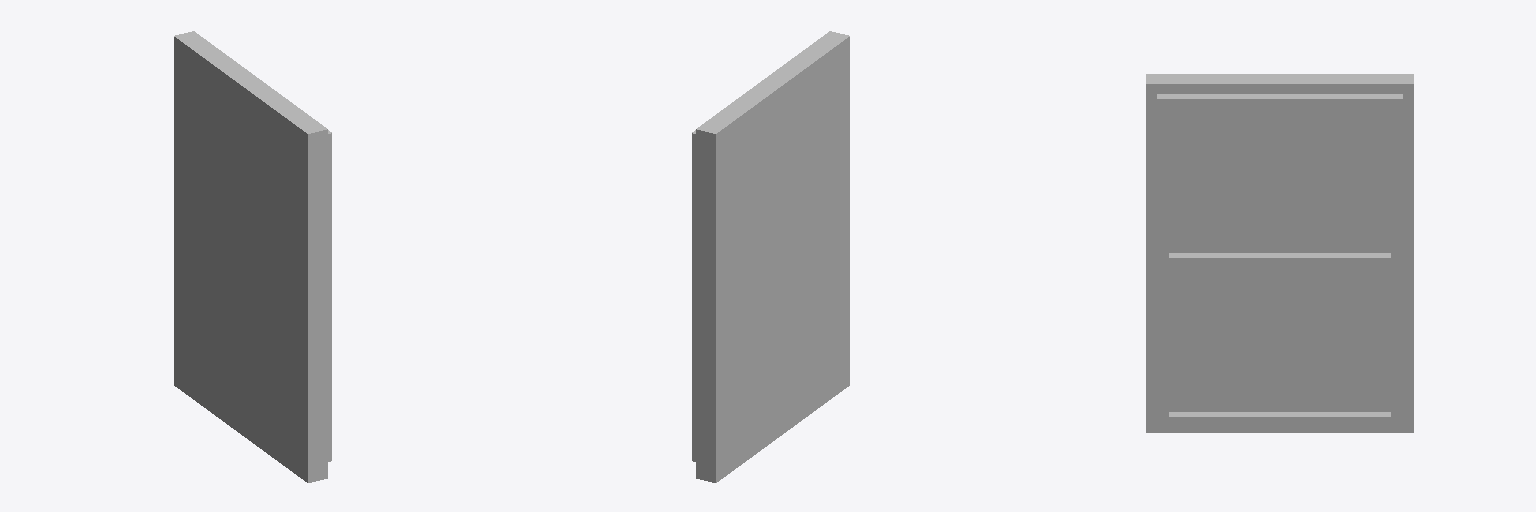
Rendered from Window.obj.
3 renders of one model, left to right at view 1: azimuth 30°, elevation 25°; view 2: azimuth 150°, elevation 25°; view 3: azimuth 270°, elevation 25°, orthographic.
Parts seen in each view (by area): view 1: object 1; view 2: object 1; view 3: object 1.
Boxes of the visible parts, box(x1,y1,x2,y2) form: object 1: box(174, 31, 331, 482); object 1: box(692, 31, 849, 482); object 1: box(1146, 74, 1413, 432).
Size of the model in its own units: 0.3 by 3.3 by 2.3.